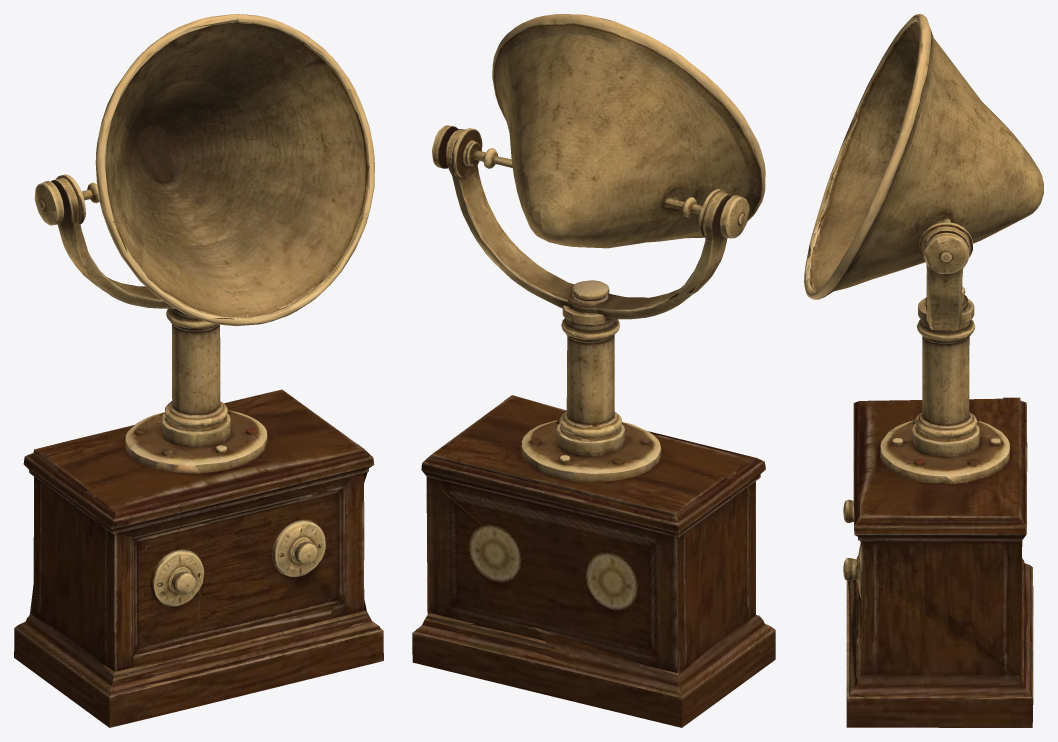
The model's file is broadcast-transmitter.glb.
3 renders of one model, left to right at view 1: azimuth 30°, elevation 25°; view 2: azimuth 150°, elevation 25°; view 3: azimuth 270°, elevation 25°, orthographic. The views are drawn at different scales.
Parts seen in each view (by area): view 1: Mesh_0; view 2: Mesh_0; view 3: Mesh_0.
Boxes of the visible parts, x1,y1,x2,y2 form: Mesh_0: (14,14,383,727); Mesh_0: (412,14,775,727); Mesh_0: (804,14,1043,727).
Size of the model in its own units: 0.9485 by 1.9 by 0.6528.
Materials: 1 (1 with a texture image).
